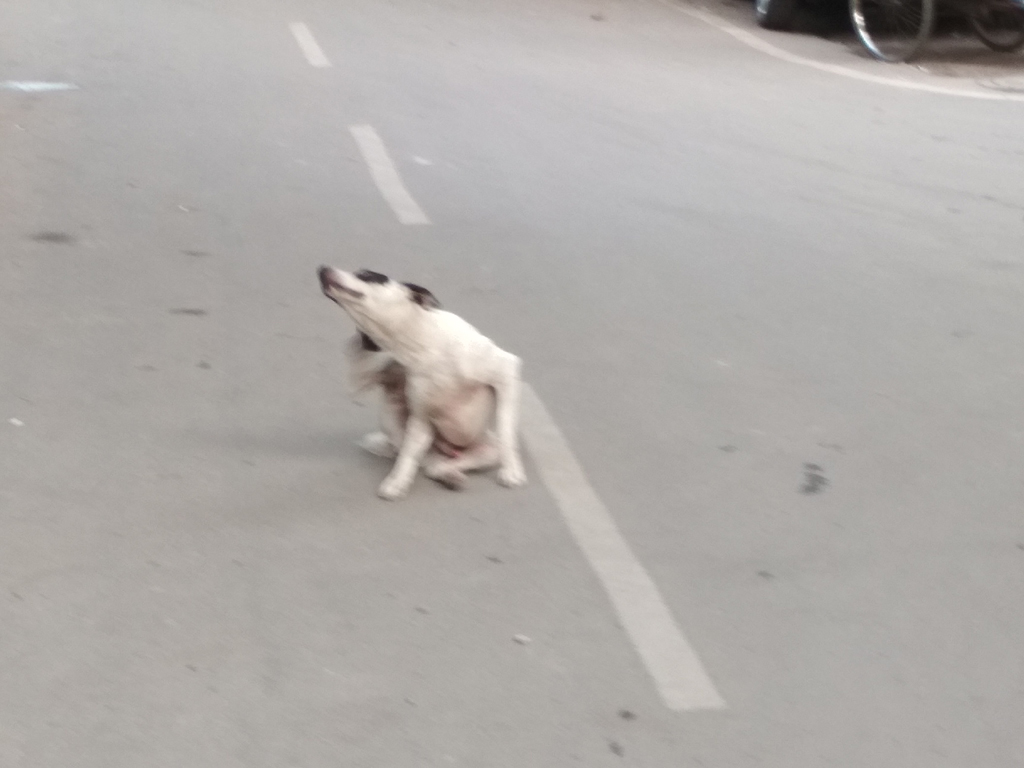dog: (318, 262, 523, 501)
